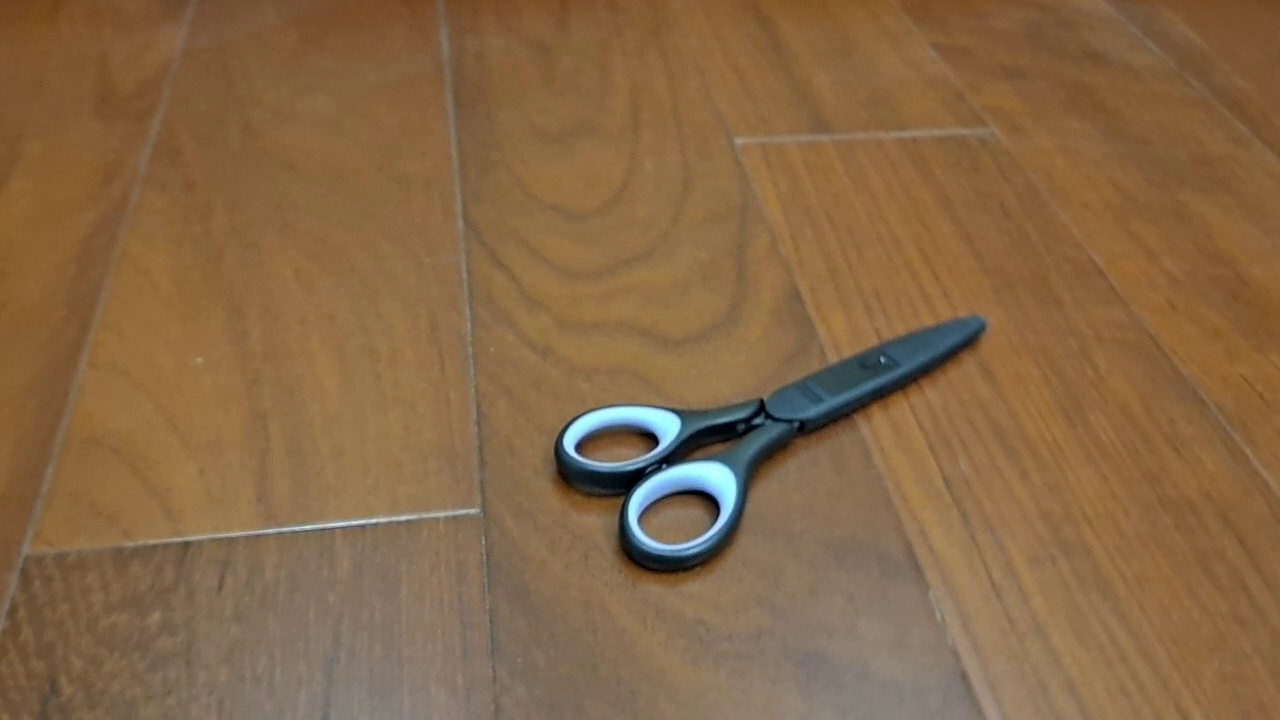scissors: (553, 310, 987, 575)
